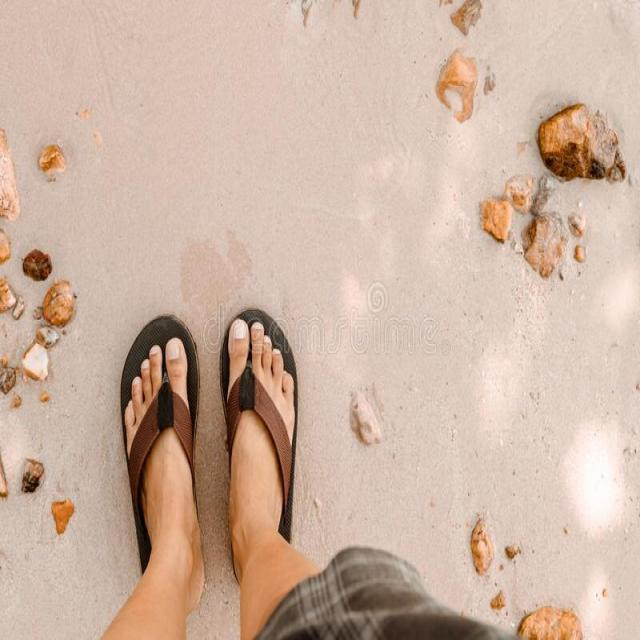No_Shoe: (118, 310, 205, 568), (219, 308, 300, 566)
